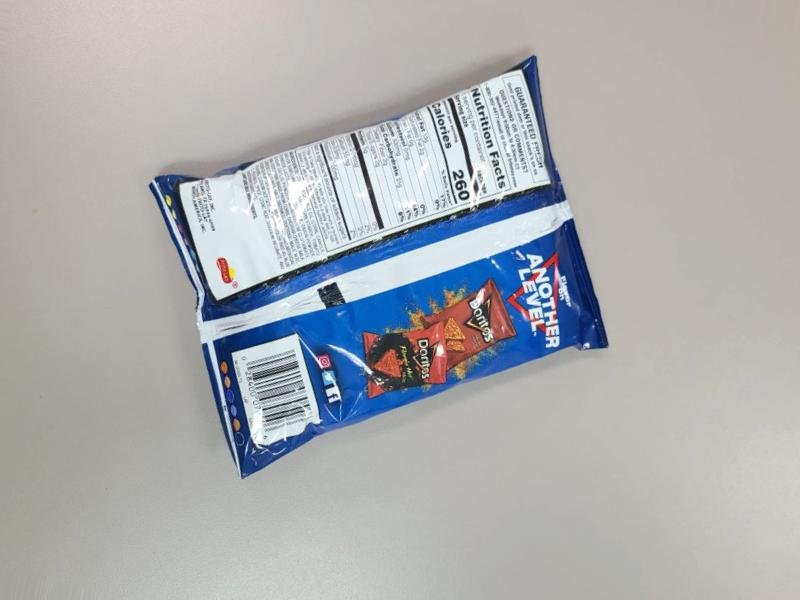doritos: (236, 43, 556, 450)
